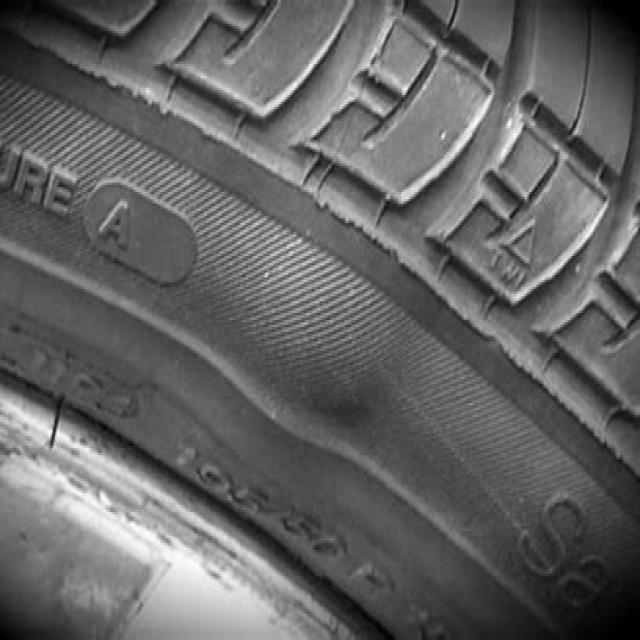Bulge: (222, 197, 412, 469)
